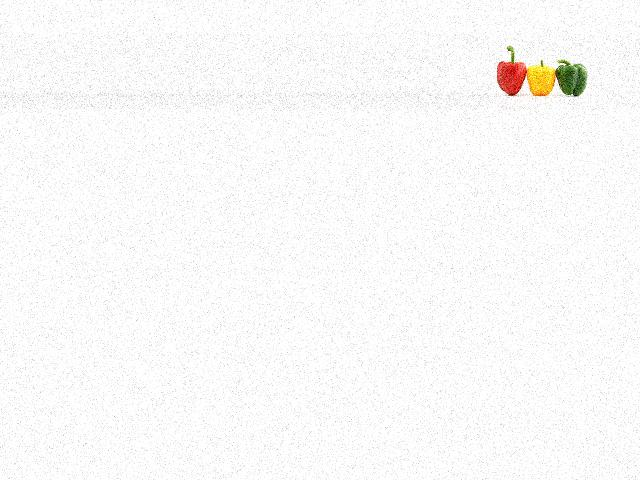bell_pepper: (488, 42, 529, 100)
